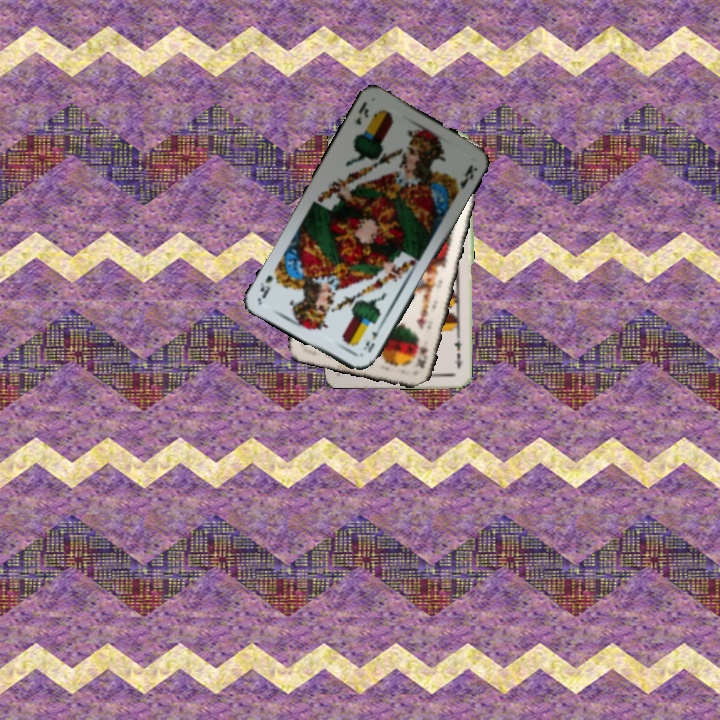E7: (450, 333, 465, 371)
EK: (359, 321, 385, 355), (351, 97, 371, 128)
SK: (412, 334, 430, 371)
